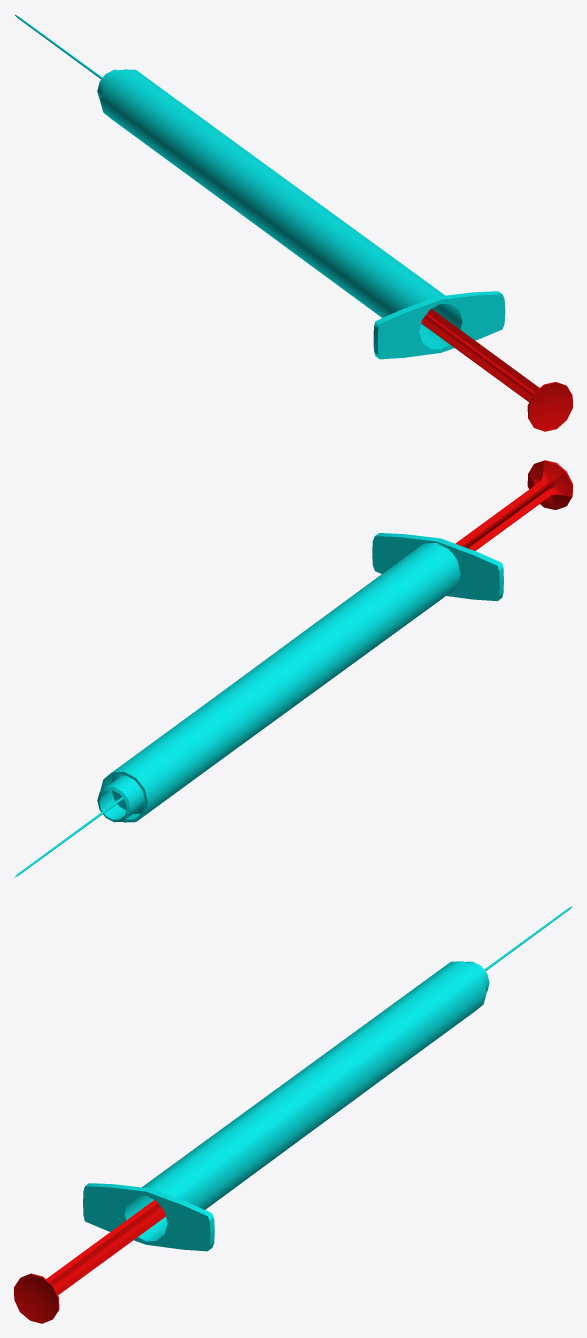
Rendered from Jeringa Anestesia.fbx.
3 views of the same model, one above another, from view 1: azimuth 30°, elevation 25°; view 2: azimuth 150°, elevation 25°; view 3: azimuth 330°, elevation 25° (orthographic).
Parts seen in each view (by area): view 1: pCylinder1, pasted__pCylinder2; view 2: pCylinder1, pasted__pCylinder2; view 3: pCylinder1, pasted__pCylinder2.
Boxes of the visible parts, x1,y1,x2,y2 form: pCylinder1: (14, 14, 505, 359); pasted__pCylinder2: (421, 309, 572, 431); pCylinder1: (14, 533, 503, 877); pasted__pCylinder2: (455, 460, 572, 550); pCylinder1: (83, 906, 572, 1251); pasted__pCylinder2: (14, 1200, 165, 1323).
Bounding box in the file's own units: 3.72 × 1.48 × 27.09.
